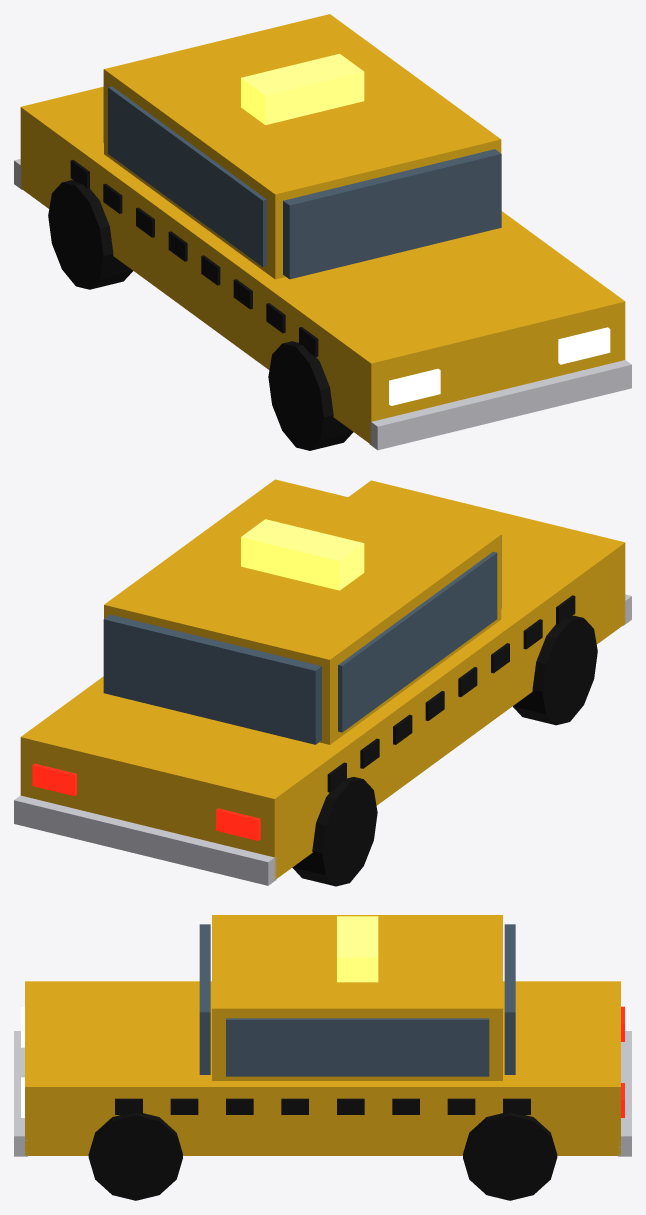
The model's file is taxi.glb.
3 renders of one model, top to bottom at view 1: azimuth 30°, elevation 25°; view 2: azimuth 150°, elevation 25°; view 3: azimuth 270°, elevation 25°, orthographic. The views are drawn at different scales.
Visible parts, largest first — view 1: taxi; view 2: taxi; view 3: taxi.
Part boxes in pixels (left/top/right/bottom): taxi: left=14, top=14, right=631, bottom=450; taxi: left=14, top=479, right=631, bottom=886; taxi: left=14, top=915, right=631, bottom=1200.
Size of the model in its own units: 1.94 by 1.65 by 4.46.
